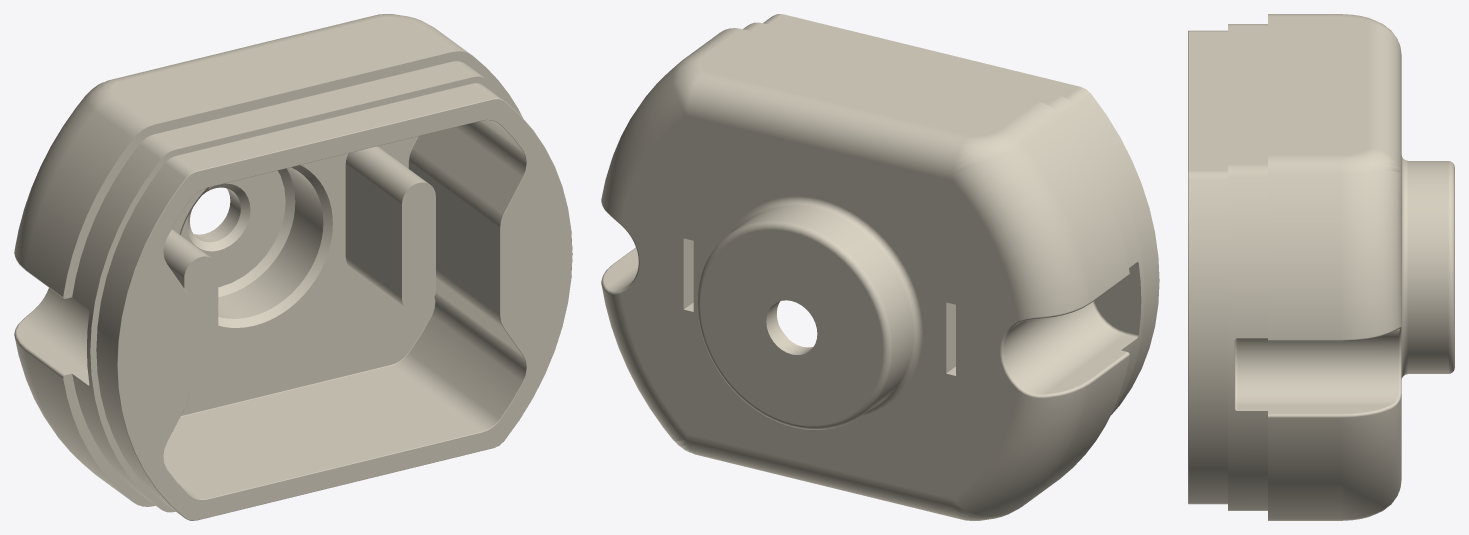
The model's file is part 2 cover.fbx.
3 renders of one model, left to right at view 1: azimuth 30°, elevation 25°; view 2: azimuth 150°, elevation 25°; view 3: azimuth 270°, elevation 25°, orthographic. The views are drawn at different scales.
Parts seen in each view (by area): view 1: Default; view 2: Default; view 3: Default.
Part boxes in pixels (bbox=[...]): Default: bbox=[14, 14, 572, 520]; Default: bbox=[601, 14, 1159, 520]; Default: bbox=[1188, 14, 1454, 520].
Bounding box in the file's own units: 8.78 × 6.67 × 4.45.
